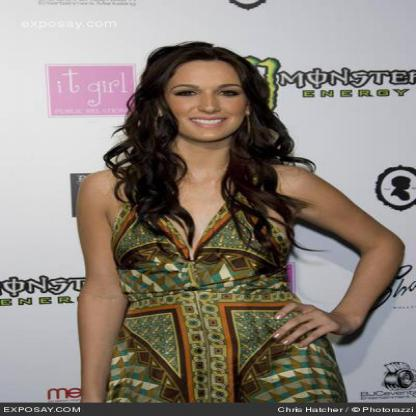long-hair: (79, 141, 326, 175)
